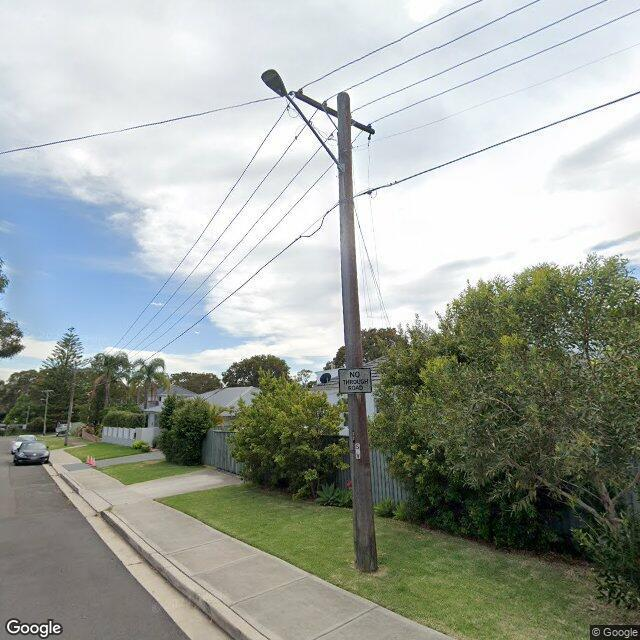crossarm: (294, 91, 375, 135)
streetlight: (260, 68, 345, 172)
timber-pole: (337, 92, 378, 574), (64, 369, 77, 445), (44, 390, 49, 435)
